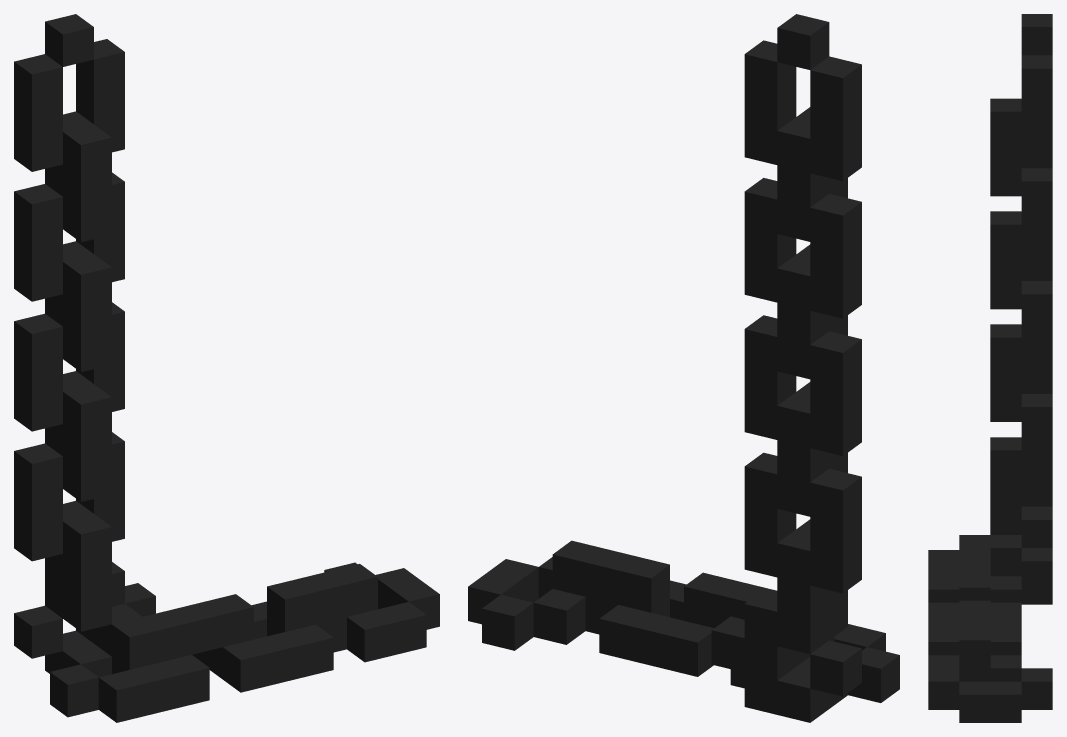
Rendered from hangingChain.obj.
The picture shows the model from 3 angles, left to right: view 1: azimuth 30°, elevation 25°; view 2: azimuth 150°, elevation 25°; view 3: azimuth 270°, elevation 25°; orthographic projection. The views are drawn at different scales.
Bounding box in the file's own units: 1.2 × 2 × 0.4.
Materials: 1 (1 with a texture image).
